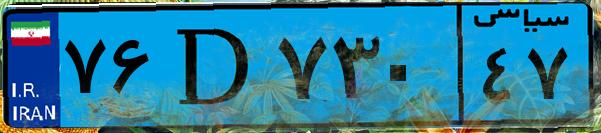0: (385, 28, 445, 110)
3: (330, 28, 385, 110)
4: (475, 38, 525, 113)
6: (110, 28, 158, 98)
7: (270, 28, 330, 110), (57, 26, 110, 100), (525, 38, 570, 115)
D: (158, 12, 270, 120)
